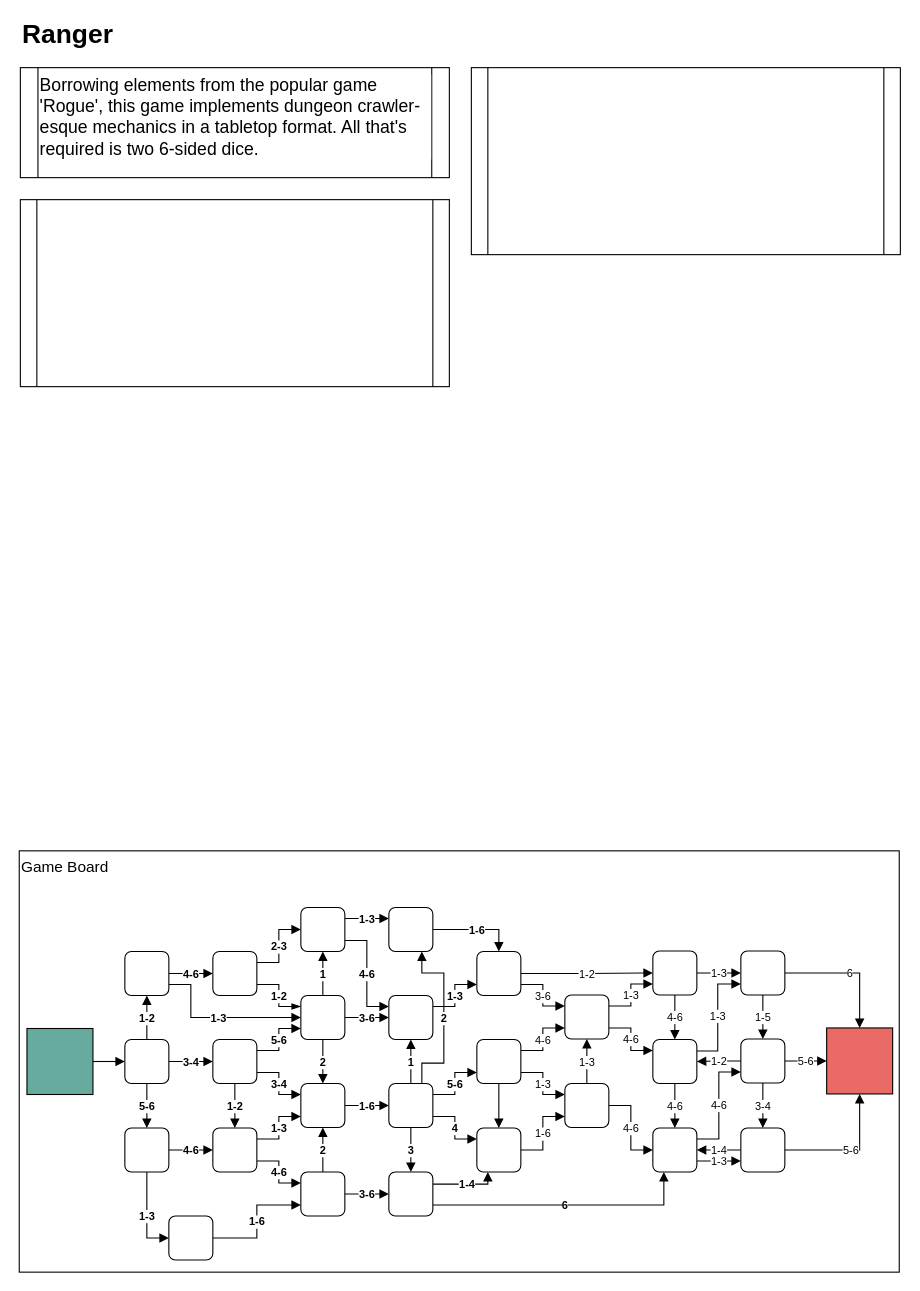
Some shapes in this 920 by 1291 pixel diagram are drawn without their labels. The shapes that lost their labels are listed below. From the top down, each one's centre as x and y in pixels, then its label:
At point 59,1060: "Start".
At point 859,1060: "End".
